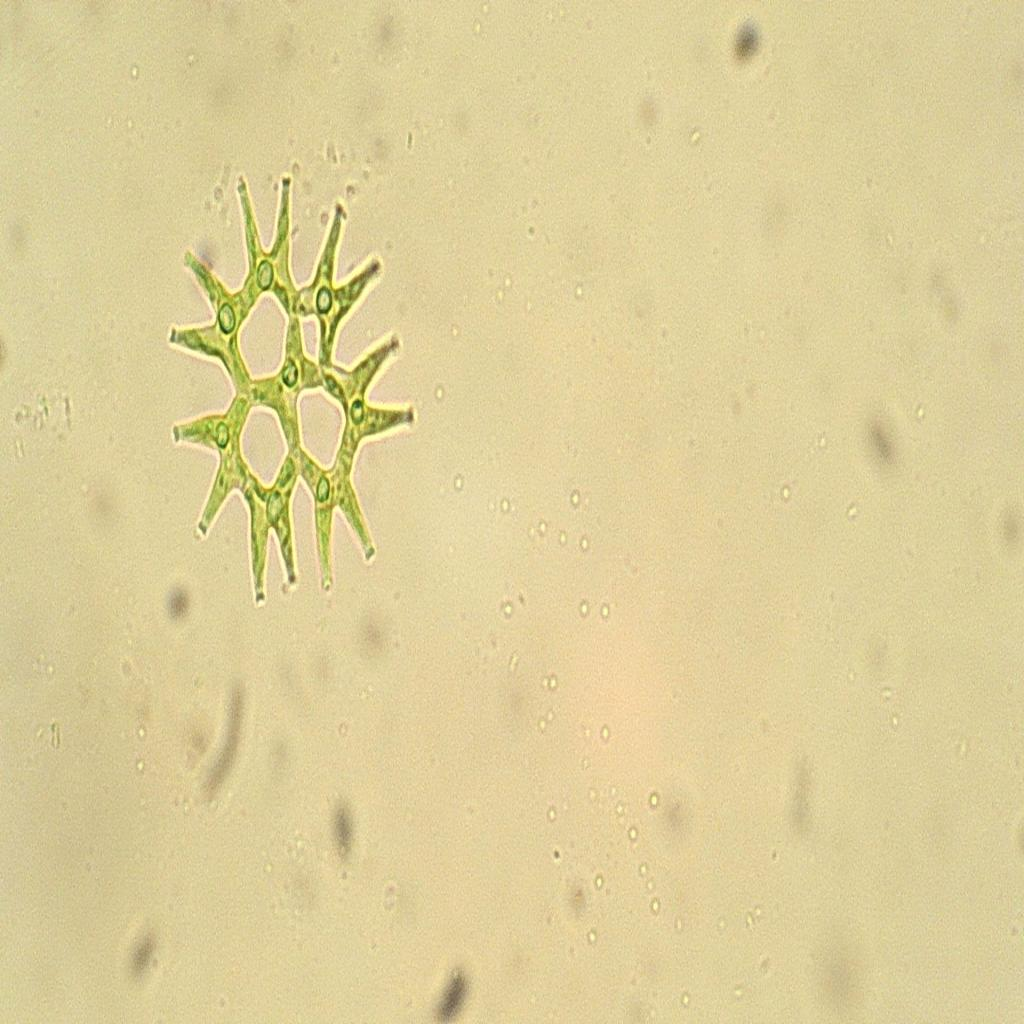Pediastrum_75T: (156, 140, 430, 632)
